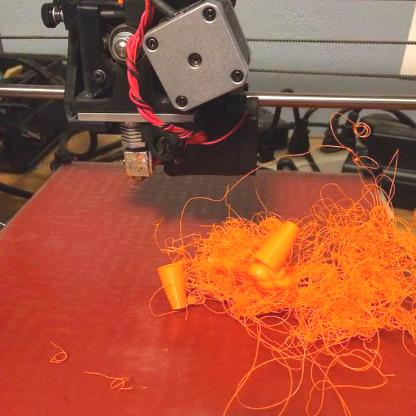fail: (166, 170, 414, 406)
